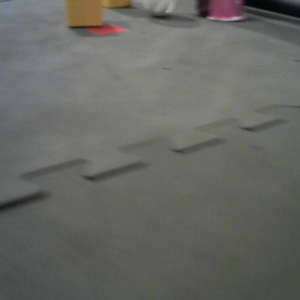right: (194, 1, 247, 21)
